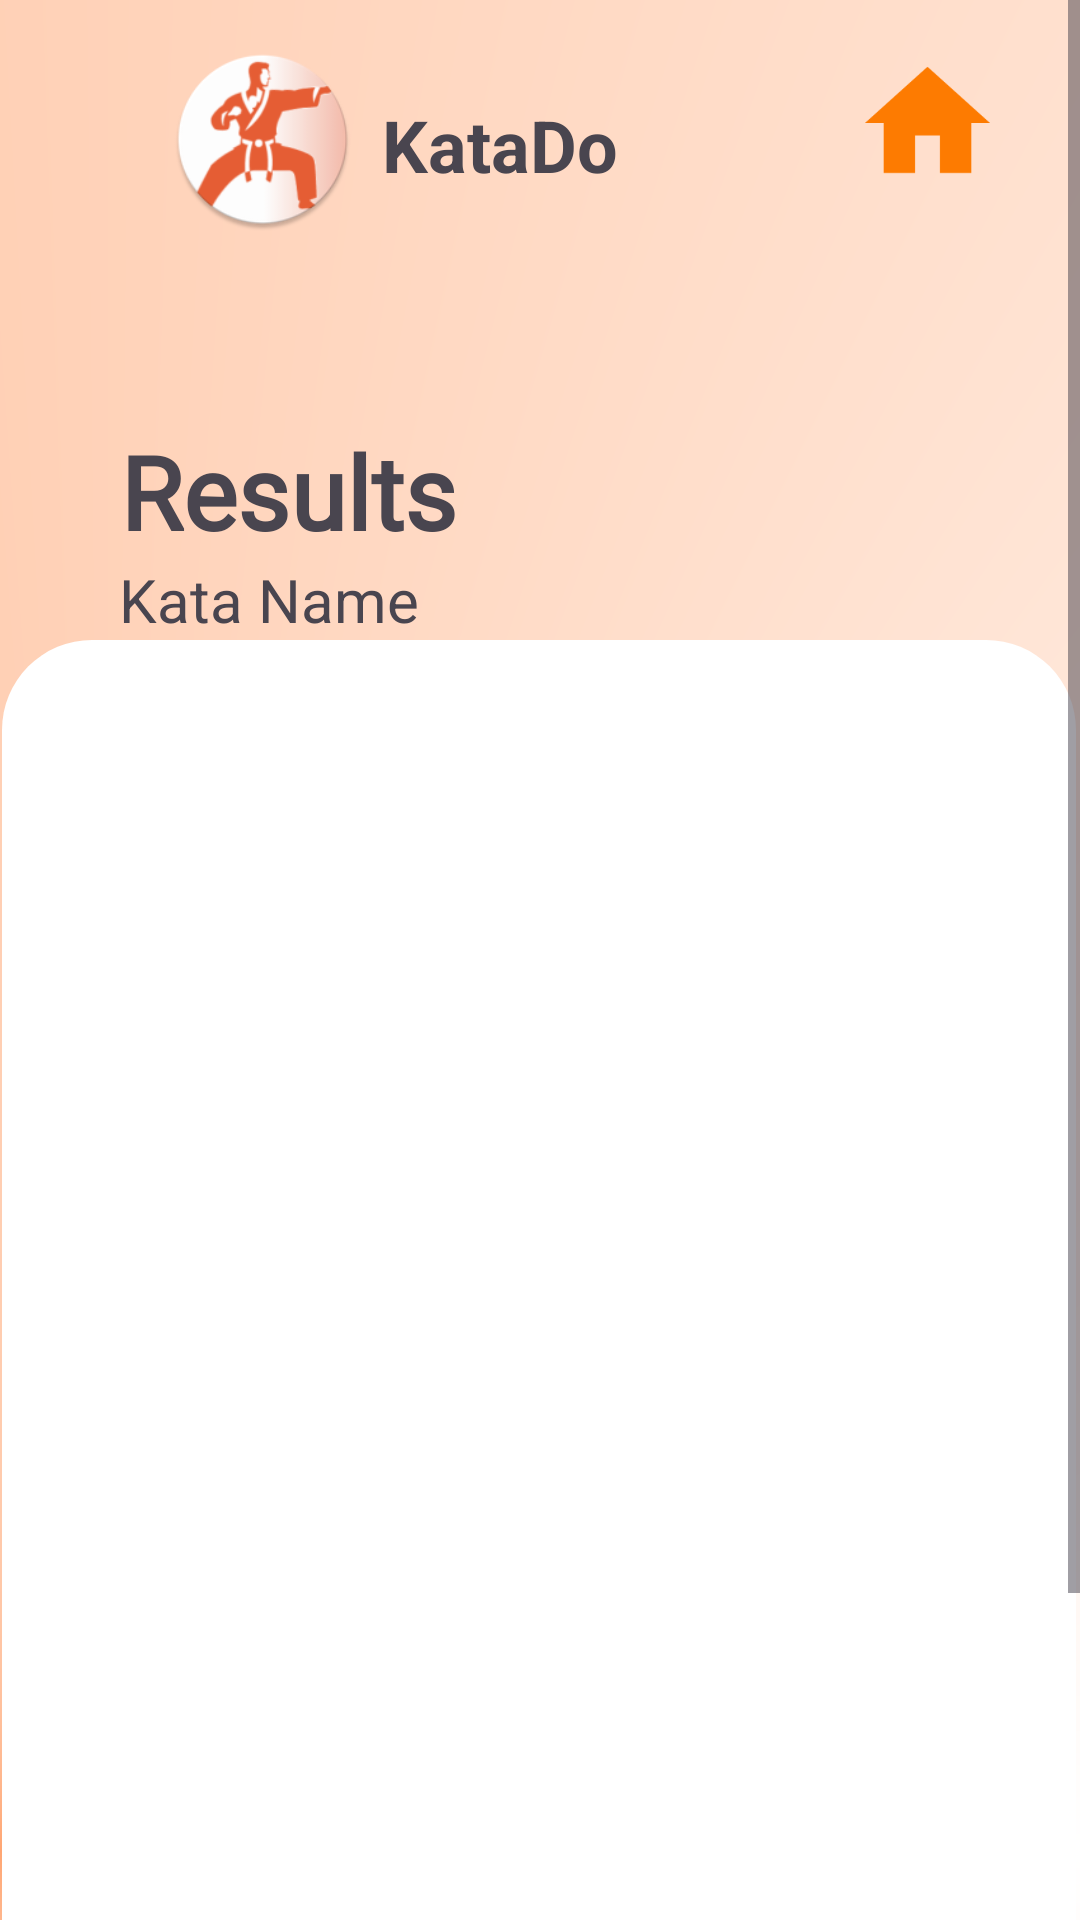

Where to tap for icons on this 1080 x 1920 app screen, as (x=x, y=y):
home: (x=927, y=120)
